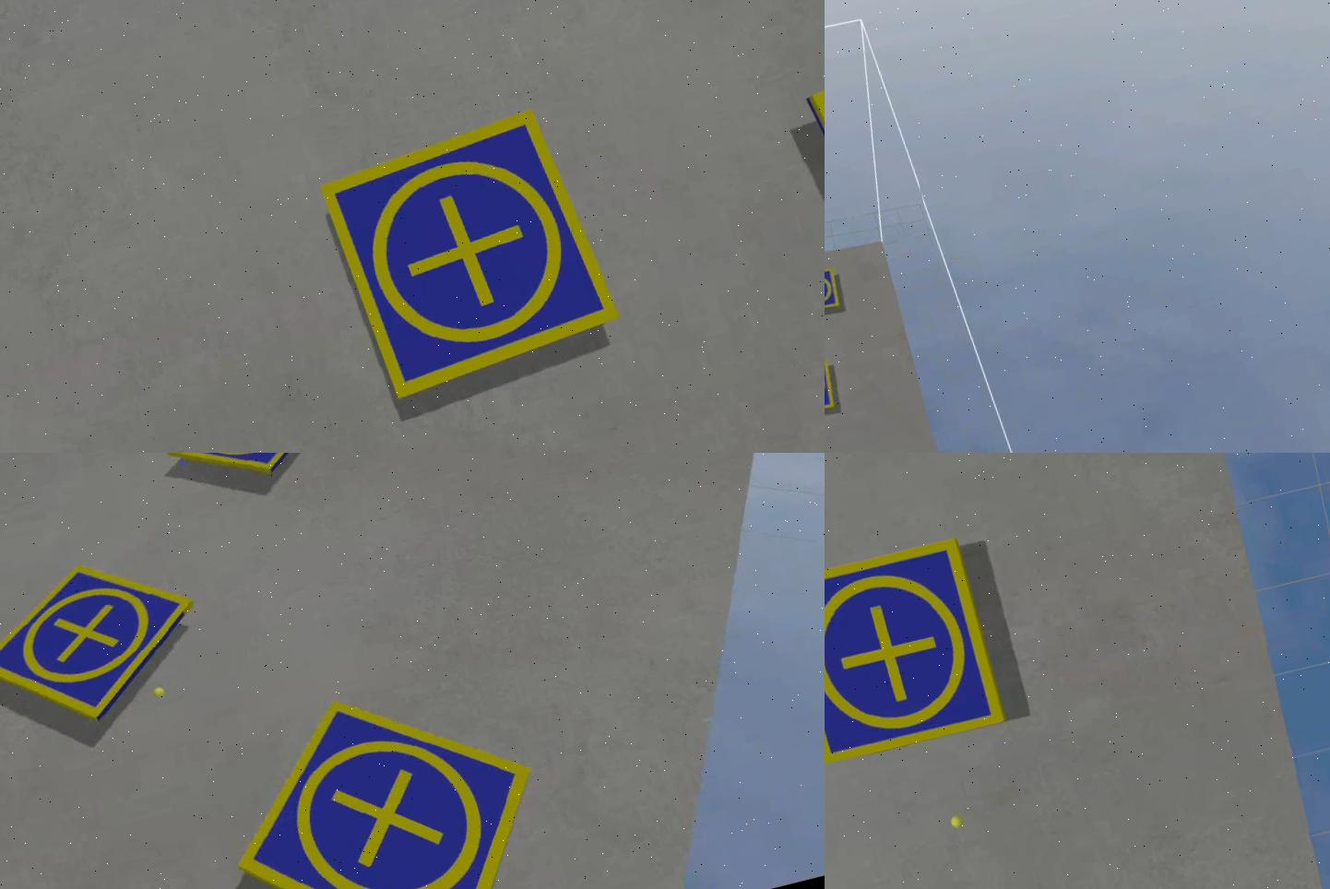small_base: (315, 102, 630, 409), (206, 658, 573, 889), (825, 531, 1015, 776), (1, 540, 218, 747), (157, 454, 343, 500), (825, 263, 846, 322), (825, 353, 842, 425)
